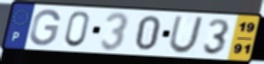0: (133, 15, 163, 52), (64, 10, 92, 49)
3: (99, 10, 132, 54), (201, 18, 232, 56)
G: (28, 8, 62, 47)
U: (167, 15, 206, 55)
